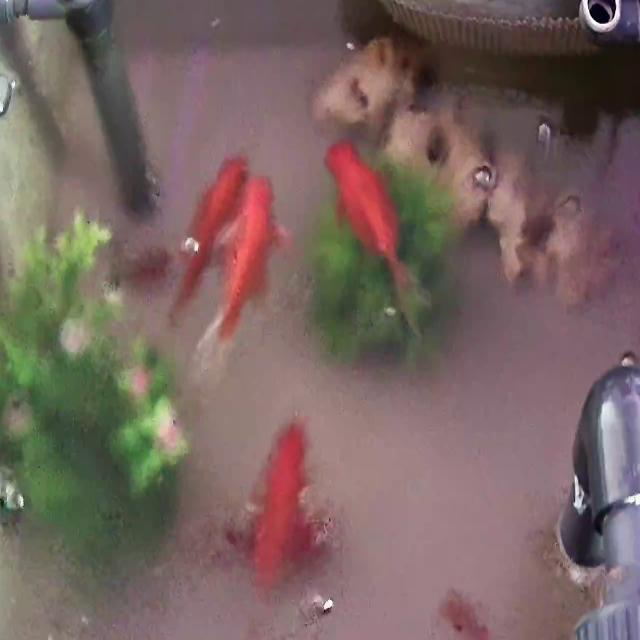fish: (331, 140, 420, 332), (205, 175, 287, 360), (170, 156, 249, 318), (249, 418, 311, 590), (442, 587, 536, 640)
